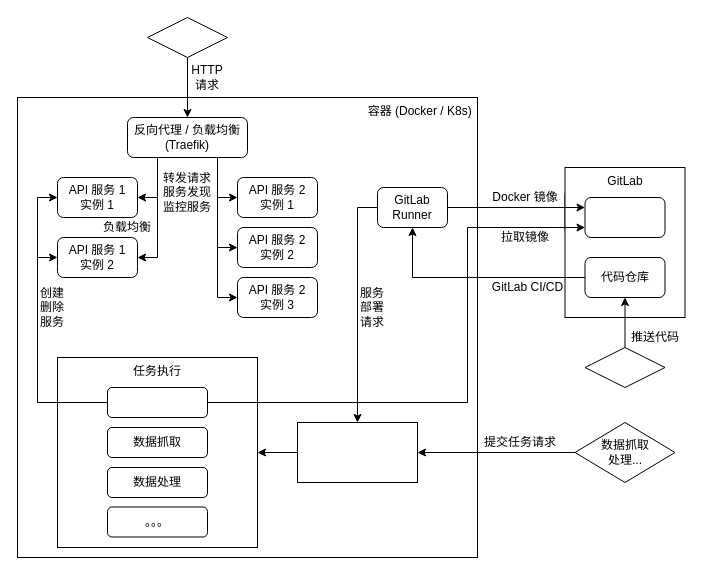
Image size: 703x575. Some labels were removed from this diagram. The centre of each missing label's shape, as x and y in pixels:
"任务调度管理器 (Airflow)" belongs at (357,452).
"客户端" belongs at (187,37).
"容器仓库" belongs at (624,217).
"开发者" belongs at (624,367).
"部署服务" belongs at (157,402).
